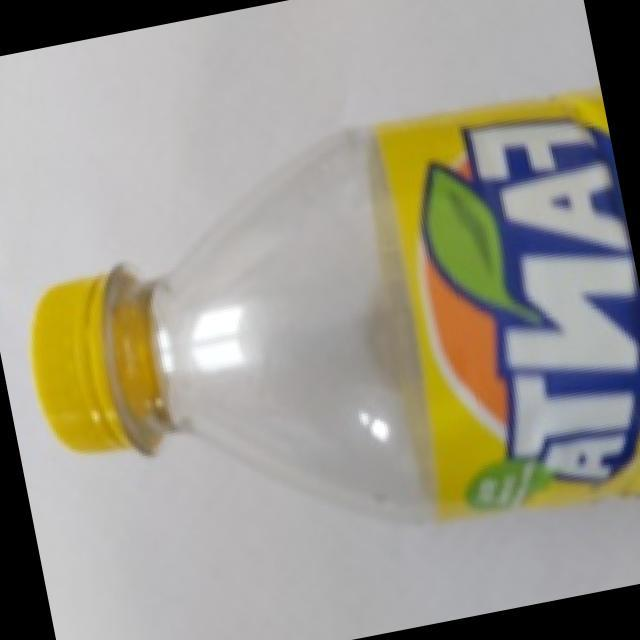good: (0, 82, 640, 598)
